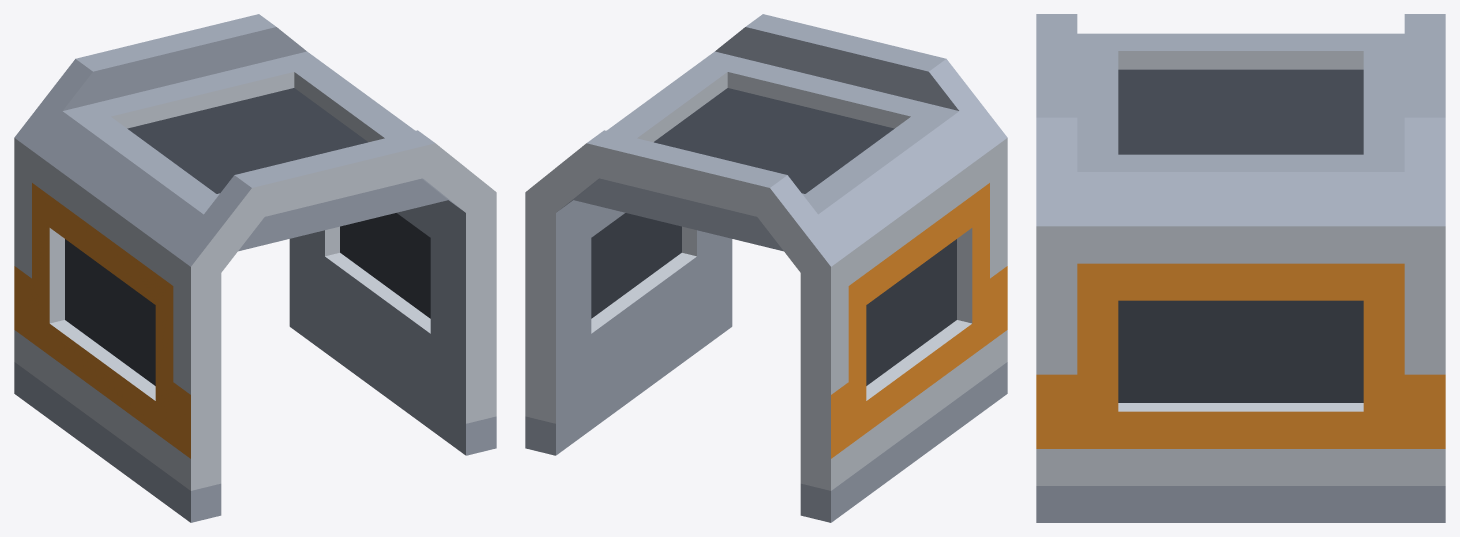
File: corridor_windowClosed.dae
3 renders of one model, left to right at view 1: azimuth 30°, elevation 25°; view 2: azimuth 150°, elevation 25°; view 3: azimuth 270°, elevation 25°, orthographic. The views are drawn at different scales.
Visible parts, largest first — view 1: corridor_windowClosed; view 2: corridor_windowClosed; view 3: corridor_windowClosed.
Boxes of the visible parts, x1=… form: corridor_windowClosed: x1=14, y1=14, x2=496, y2=522; corridor_windowClosed: x1=525, y1=14, x2=1007, y2=522; corridor_windowClosed: x1=1036, y1=14, x2=1445, y2=522.
Bounding box in the file's own units: 1 × 1 × 1.
